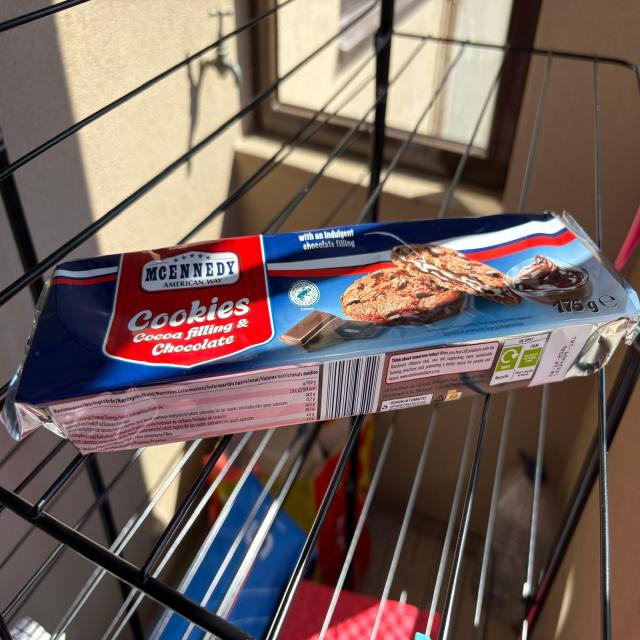good_package: (0, 206, 640, 458)
